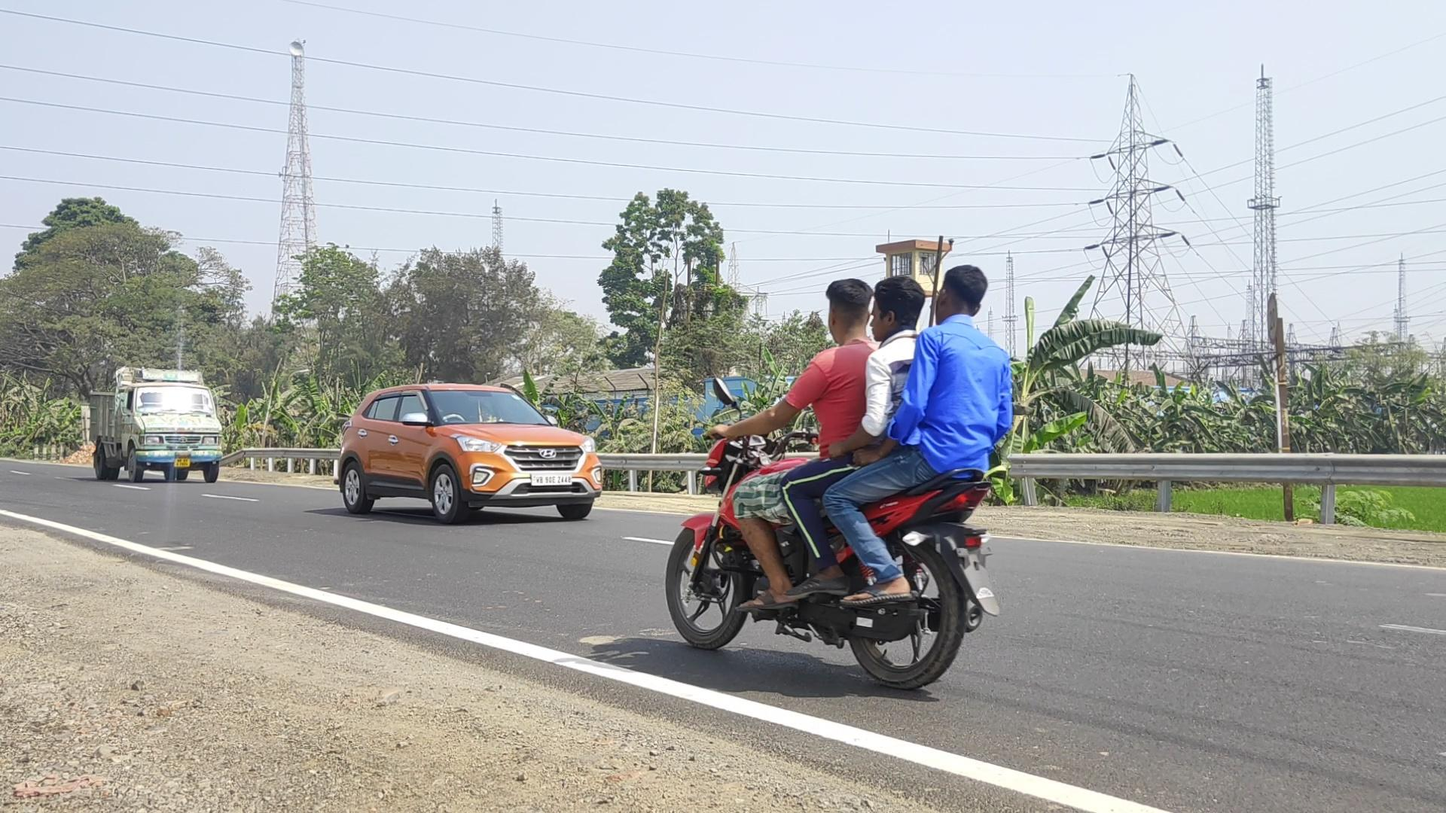bike: (664, 264, 1015, 690)
car: (334, 382, 601, 524)
truck: (88, 367, 224, 484)
